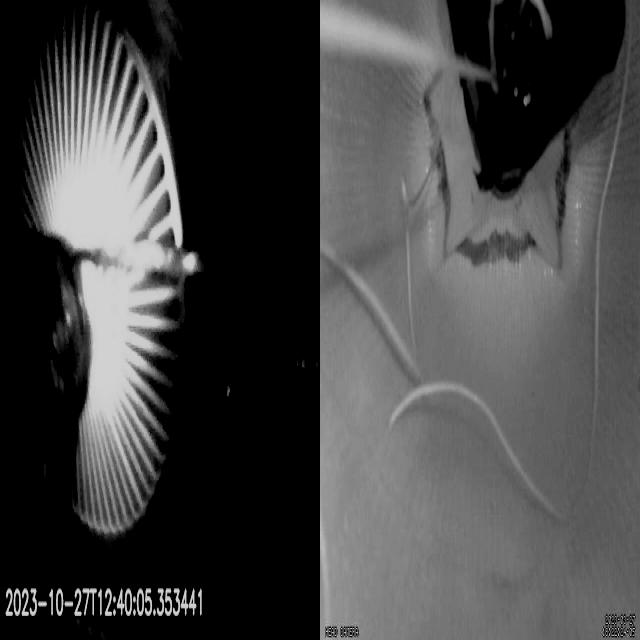red-circle: (424, 82, 578, 266)
